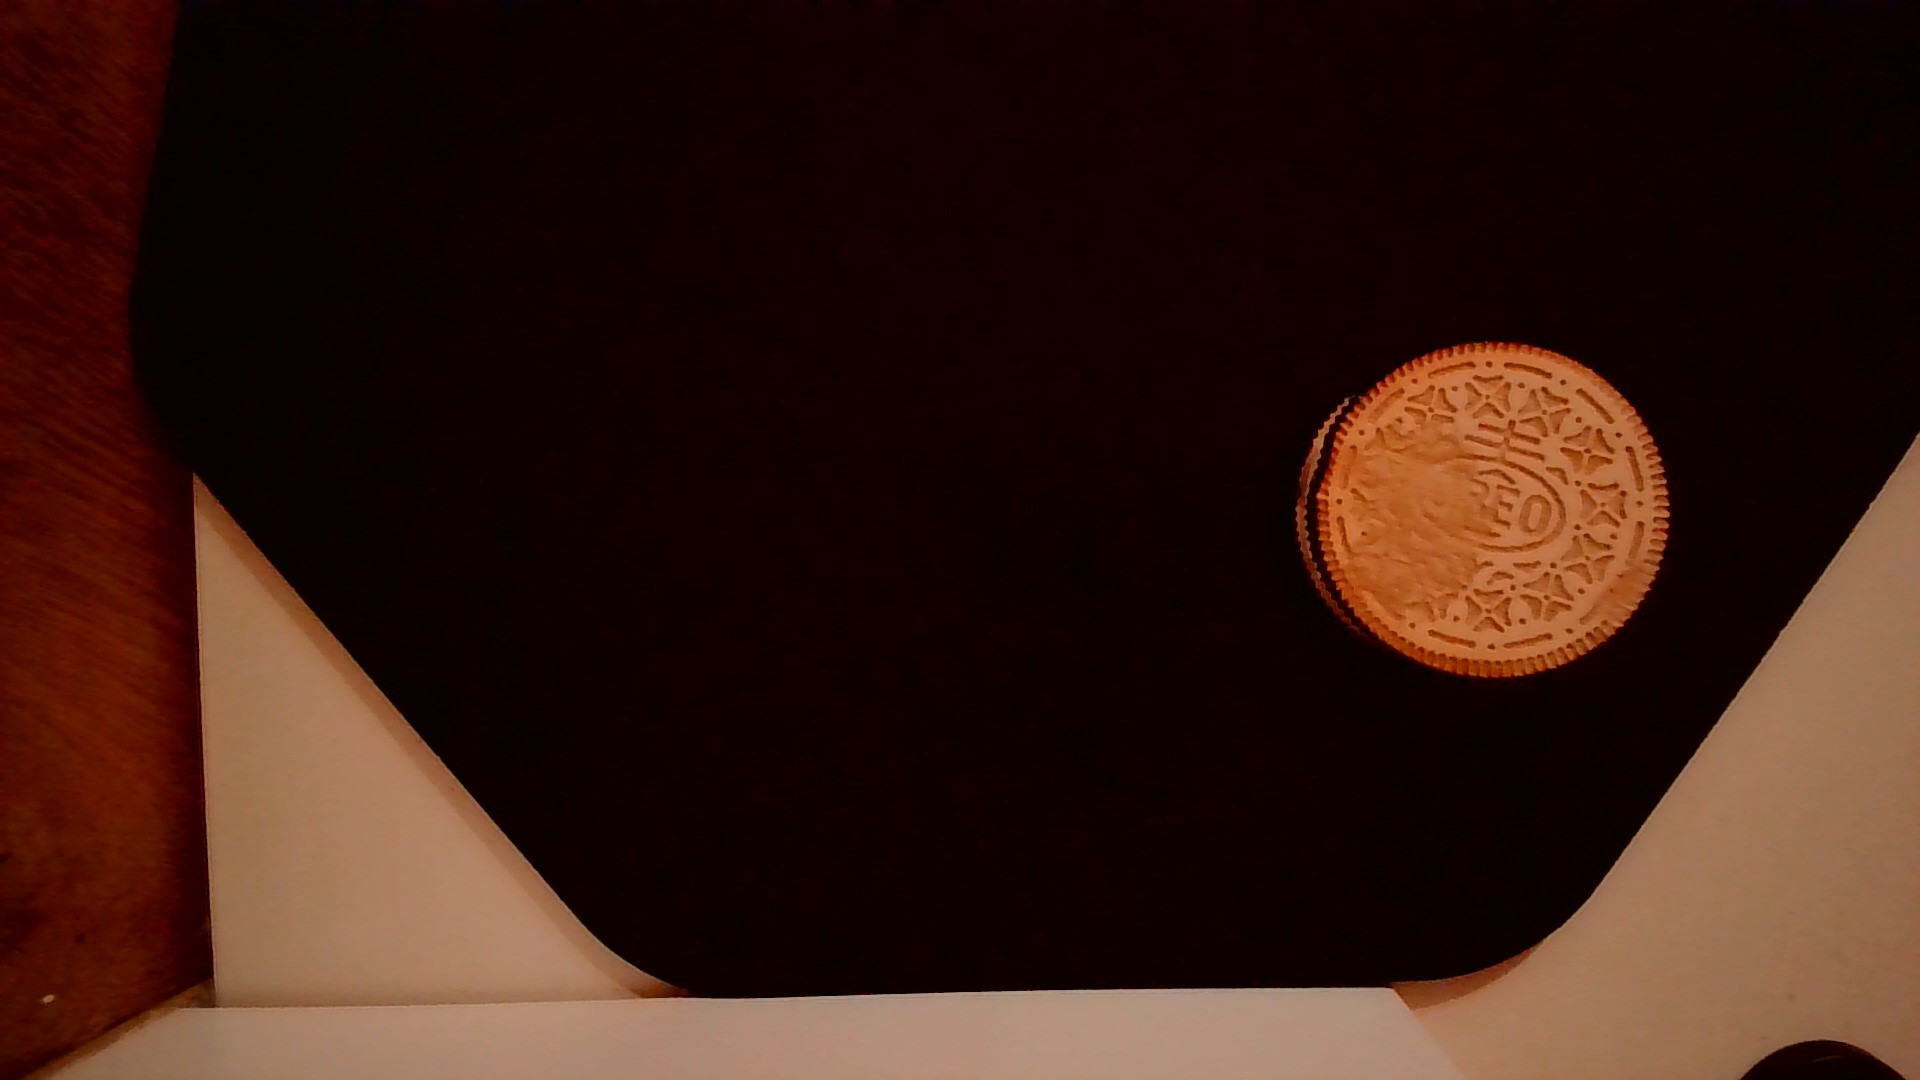Effacé: (1342, 421, 1468, 599)
Oréo: (1283, 334, 1676, 687)
